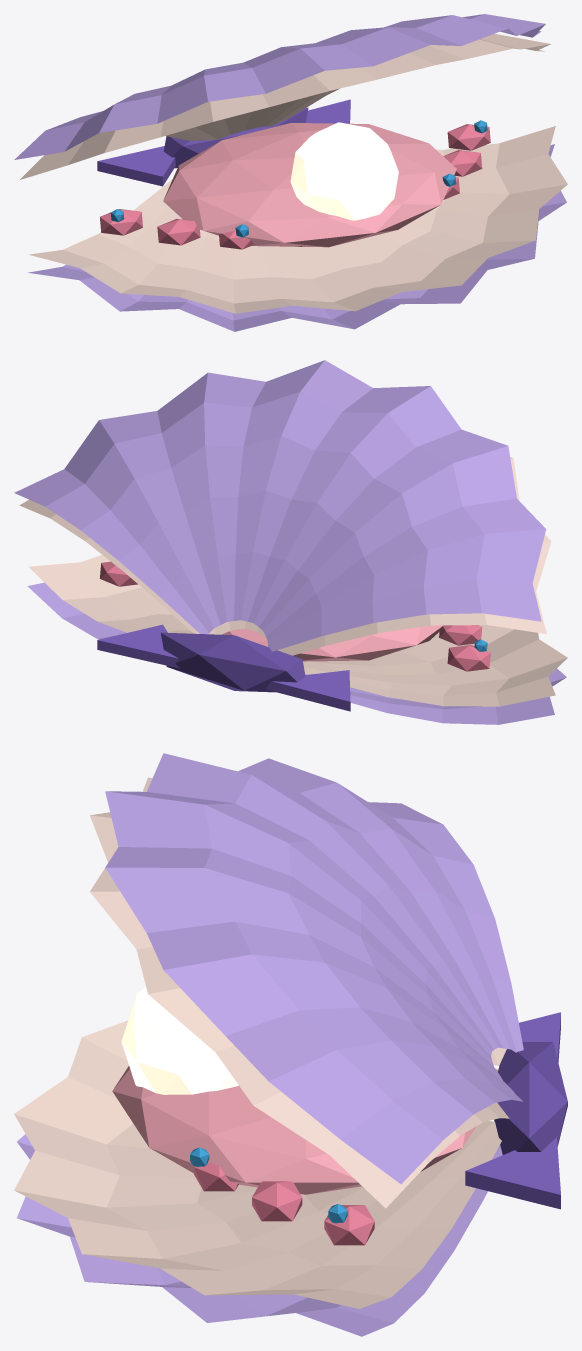
File: pearl-oyster.glb
The picture shows the model from 3 angles, top to bottom: view 1: azimuth 30°, elevation 25°; view 2: azimuth 150°, elevation 25°; view 3: azimuth 270°, elevation 25°; orthographic projection. The views are drawn at different scales.
Visible parts, largest first — view 1: pearl_oyster; view 2: pearl_oyster; view 3: pearl_oyster.
Boxes of the visible parts, x1,y1,x2,y2 form: pearl_oyster: (14,14,567,331); pearl_oyster: (14,360,567,724); pearl_oyster: (14,753,567,1336).
Bounding box in the file's own units: 3.96 × 1.81 × 2.43.
